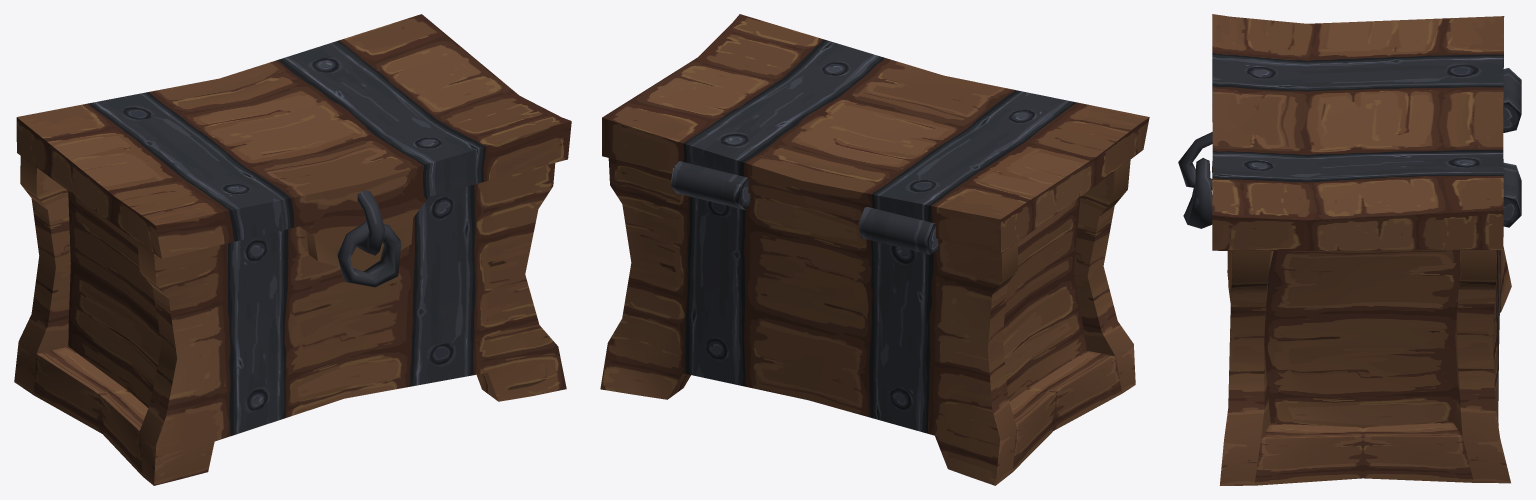
Rendered from SM_PROP_chest_interior.fbx.
3 renders of one model, left to right at view 1: azimuth 30°, elevation 25°; view 2: azimuth 150°, elevation 25°; view 3: azimuth 270°, elevation 25°, orthographic. The views are drawn at different scales.
Parts seen in each view (by area): view 1: SM_PROP_chest_interior, SM_PROP_chest_lid_interior; view 2: SM_PROP_chest_interior, SM_PROP_chest_lid_interior; view 3: SM_PROP_chest_lid_interior, SM_PROP_chest_interior.
Boxes of the visible parts, <box> form: SM_PROP_chest_interior: <box>14,156,566,485</box>; SM_PROP_chest_lid_interior: <box>16,14,571,287</box>; SM_PROP_chest_interior: <box>600,158,1135,485</box>; SM_PROP_chest_lid_interior: <box>602,14,1149,253</box>; SM_PROP_chest_lid_interior: <box>1178,14,1504,250</box>; SM_PROP_chest_interior: <box>1219,68,1521,485</box>.
Size of the model in its own units: 105 by 66.93 by 75.05.
